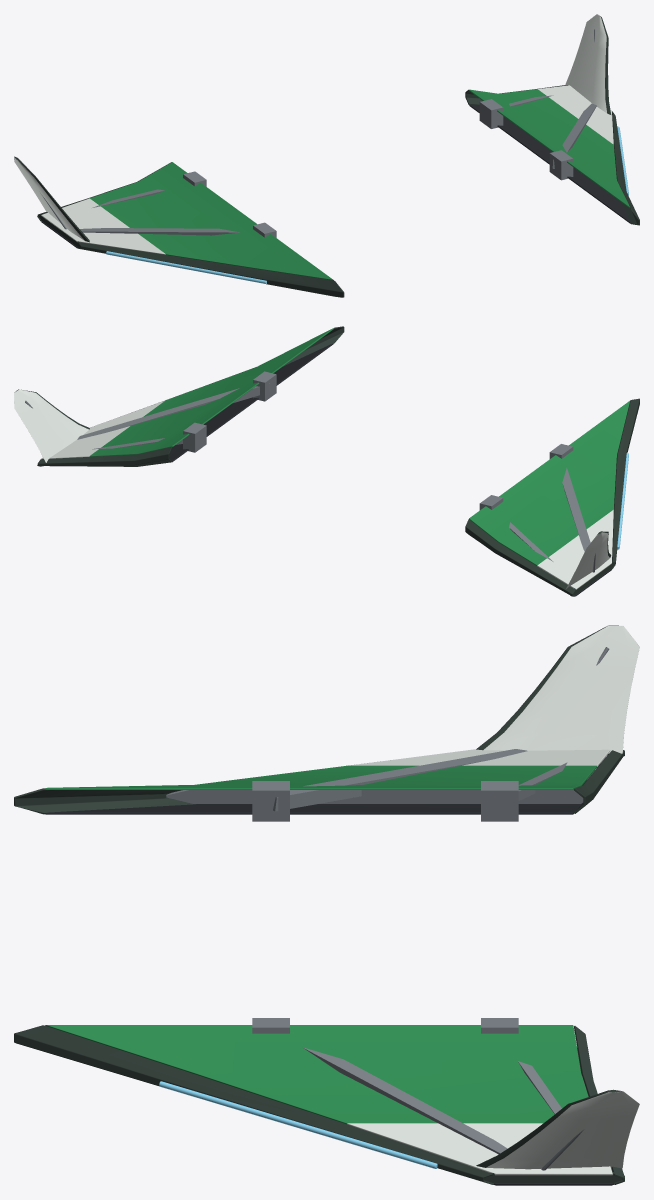
Rendered from wraith_wing_glide.fbx.
3 renders of one model, top to bottom at view 1: azimuth 30°, elevation 25°; view 2: azimuth 150°, elevation 25°; view 3: azimuth 270°, elevation 25°, orthographic. The views are drawn at different scales.
Visible parts, largest first — view 1: Wing_Top_L.001, Wing_Top_R.001, Wing_Glide_Extra_R, Wing_LE_L.001, Wing_Structure_R.001, Wing_Glide_Extra_L, Wing_Structure_L.001, Wing_Bottom_R.001, Wing_LE_R.001; view 2: Wing_Top_L.001, Wing_Top_R.001, Wing_Glide_Extra_R, Wing_Structure_R.001, Wing_TE_R.001, Wing_Structure_L.001, Wing_LE_L.001, Wing_Bottom_R.001, Wing_Glide_Extra_L, Wing_TE_L.001, Wing_LE_R.001; view 3: Wing_Top_R.001, Wing_Glide_Extra_L, Wing_Structure_L.001, Wing_Top_L.001, Wing_Glide_Extra_R, Wing_LE_R.001, Wing_Structure_R.001, Wing_Bottom_L.001, Wing_LE_L.001, Wing_Tip_R.001, Wing_TE_L.001, Wing_TE_R.001.
Boxes of the visible parts, left/top/right/bottom form: Wing_Top_L.001: left=41, top=162, right=333, bottom=280; Wing_Top_R.001: left=469, top=85, right=630, bottom=208; Wing_Glide_Extra_R: left=565, top=14, right=628, bottom=195; Wing_LE_L.001: left=77, top=242, right=344, bottom=297; Wing_Structure_R.001: left=479, top=95, right=596, bottom=180; Wing_Glide_Extra_L: left=14, top=156, right=266, bottom=283; Wing_Structure_L.001: left=80, top=171, right=276, bottom=237; Wing_Bottom_R.001: left=469, top=104, right=630, bottom=223; Wing_LE_R.001: left=612, top=111, right=639, bottom=225; Wing_Top_L.001: left=469, top=401, right=629, bottom=589; Wing_Top_R.001: left=41, top=328, right=333, bottom=458; Wing_Glide_Extra_R: left=14, top=389, right=89, bottom=462; Wing_Structure_R.001: left=77, top=371, right=276, bottom=452; Wing_TE_R.001: left=37, top=447, right=172, bottom=466; Wing_Structure_L.001: left=479, top=444, right=590, bottom=561; Wing_LE_L.001: left=612, top=398, right=639, bottom=568; Wing_Bottom_R.001: left=169, top=343, right=333, bottom=462; Wing_Glide_Extra_L: left=565, top=452, right=628, bottom=589; Wing_TE_L.001: left=465, top=519, right=575, bottom=596; Wing_LE_R.001: left=120, top=326, right=344, bottom=416; Wing_Top_R.001: left=45, top=1025, right=612, bottom=1175; Wing_Glide_Extra_L: left=476, top=625, right=639, bottom=753; Wing_Structure_L.001: left=166, top=749, right=607, bottom=821; Wing_Top_L.001: left=45, top=749, right=610, bottom=789; Wing_Glide_Extra_R: left=159, top=1081, right=639, bottom=1170; Wing_LE_R.001: left=14, top=1025, right=493, bottom=1184; Wing_Structure_R.001: left=252, top=1018, right=585, bottom=1154; Wing_Bottom_L.001: left=45, top=763, right=600, bottom=814; Wing_LE_L.001: left=14, top=765, right=346, bottom=814; Wing_Tip_R.001: left=484, top=1172, right=624, bottom=1184; Wing_TE_L.001: left=574, top=750, right=624, bottom=813; Wing_TE_R.001: left=574, top=1026, right=624, bottom=1184.
Size of the model in its own units: 292 by 34.49 by 165.
